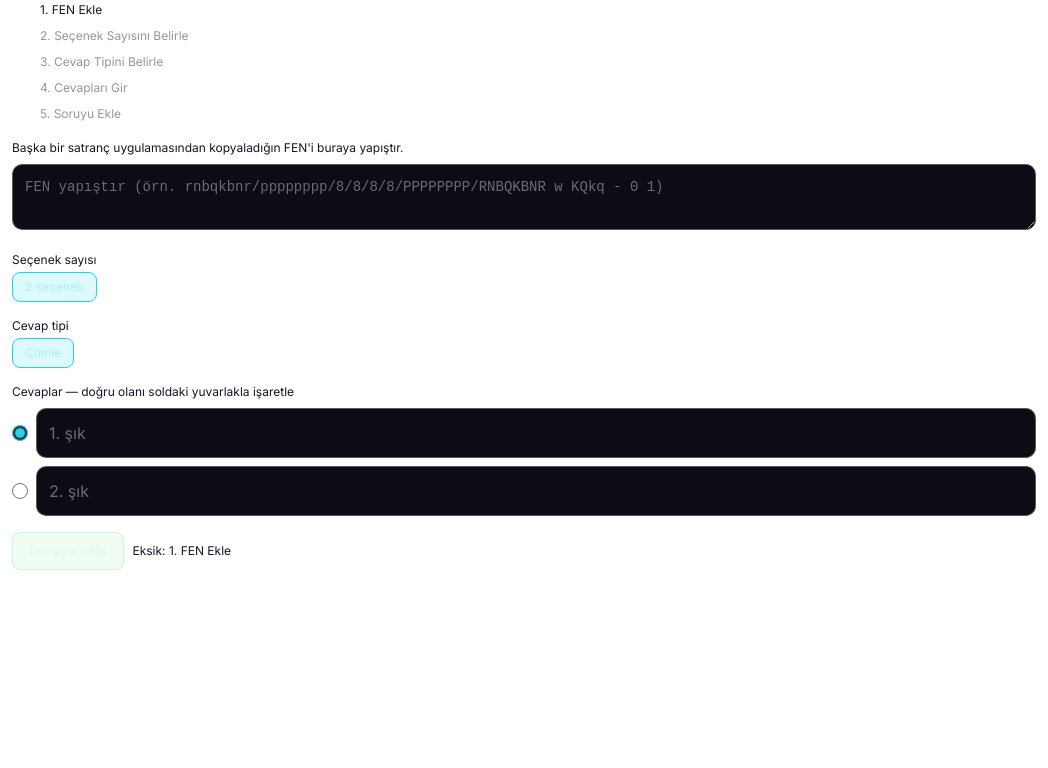
Test: KonumPratigiFields › gönderim sonrası form sıfırlanır (yeni soru için hazır)
Replace the text in the text box with placeholder "FEN yapıştır" with "r1bqkbnr/pppp1ppp/2n5/4p3/2B1P3/5N2/PPPP1PPP/RNBQK2R b KQkq - 0 1". click: (524,197)
box: top-left (12, 164), bottom-right (1036, 230)
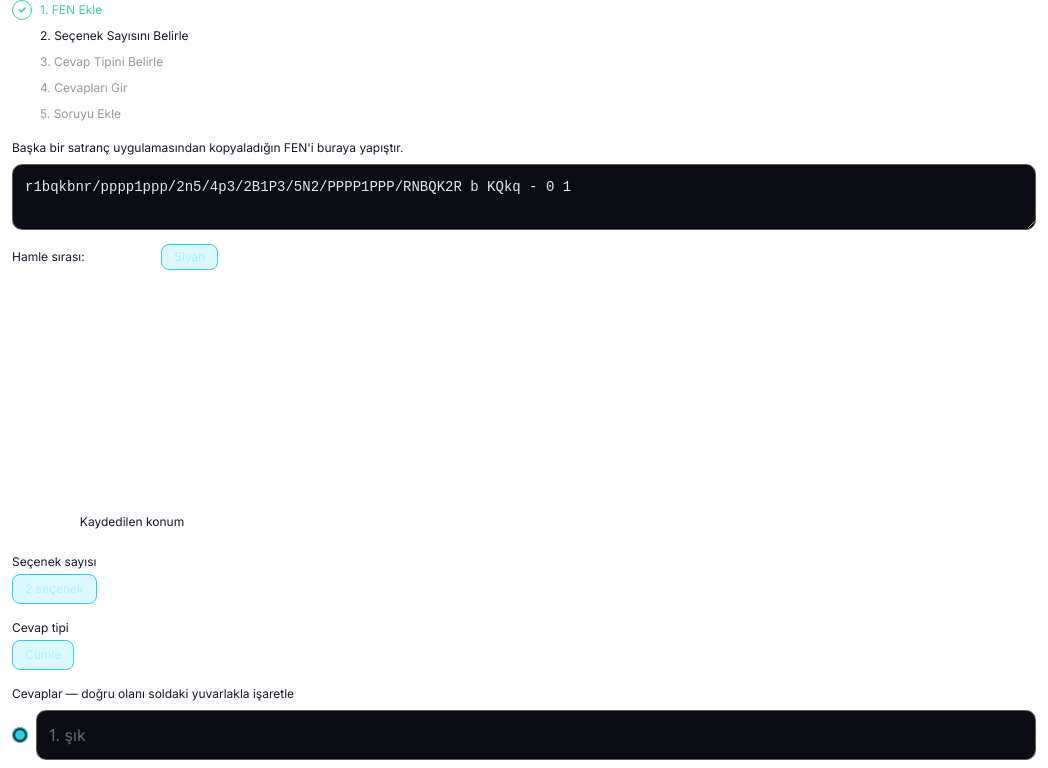
Click the button "2 seçenek". click: (54,589)
box: top-left (12, 574), bottom-right (97, 604)
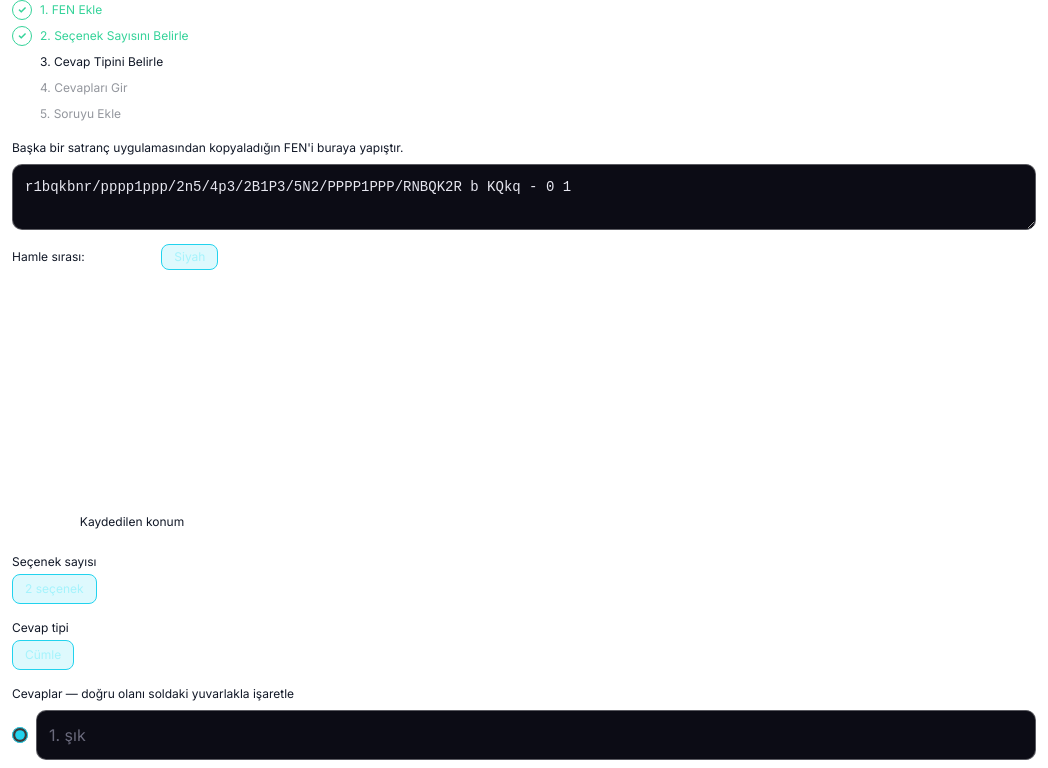
Click the button "Cümle". click: (43,655)
box: top-left (12, 640), bottom-right (74, 670)
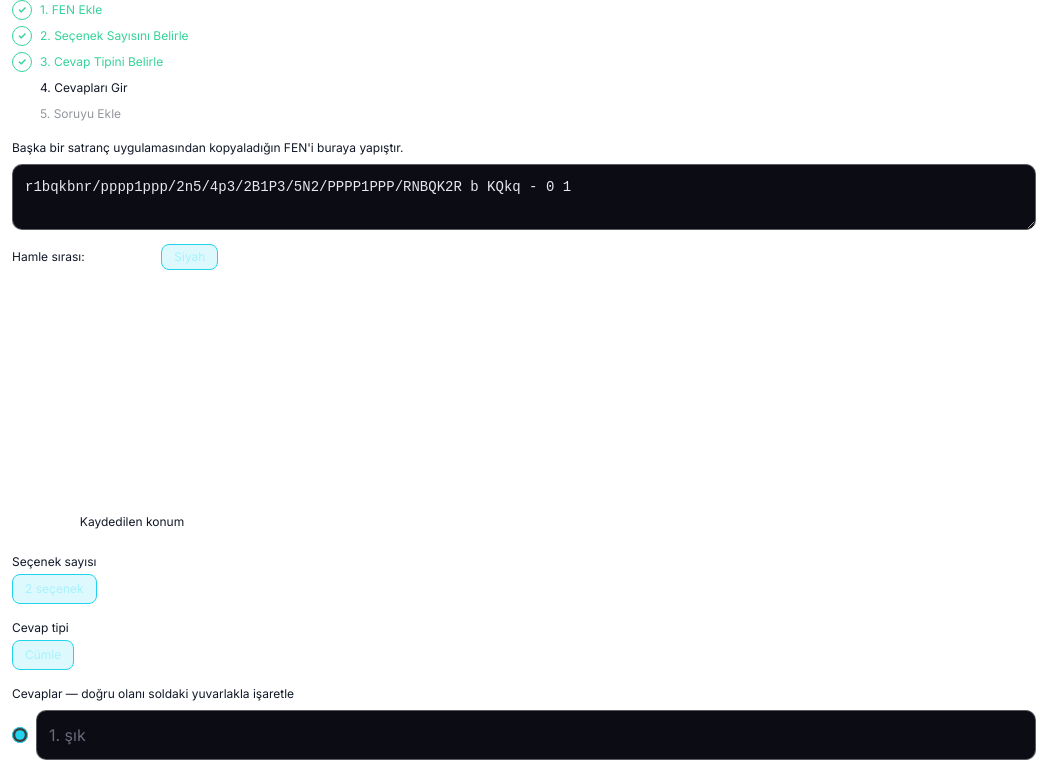
Type "İtalyan Açılışı" into the field with placeholder "1. şık". click: (536,735)
box: top-left (36, 710), bottom-right (1036, 760)
(page scrolled)
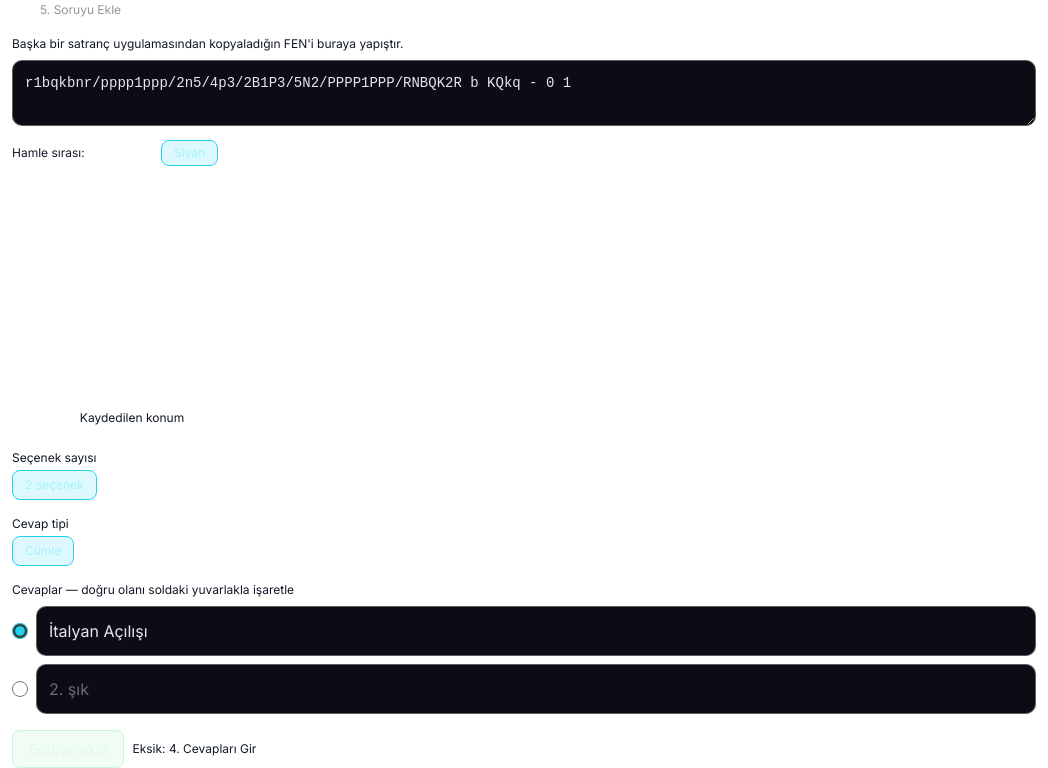
Type "İspanyol Açılışı" into the field with placeholder "2. şık". click: (536,689)
box: top-left (36, 664), bottom-right (1036, 714)
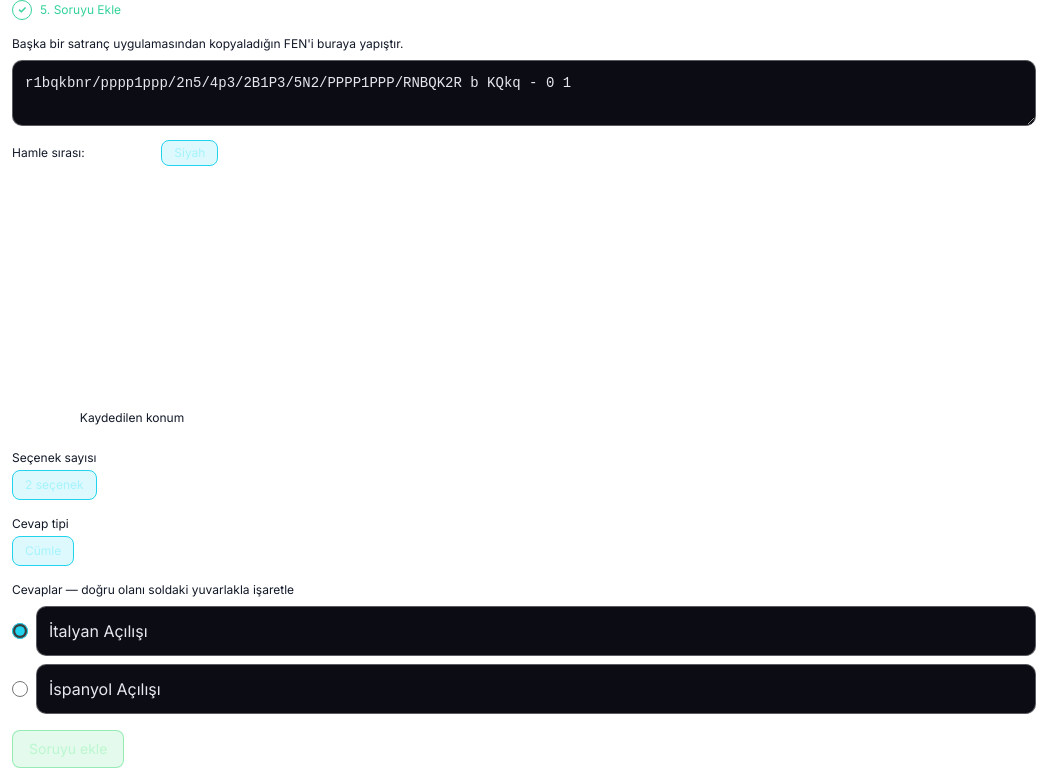
Click the button "Soruyu ekle". click: (68,749)
box: top-left (12, 730), bottom-right (124, 767)
(page scrolled)
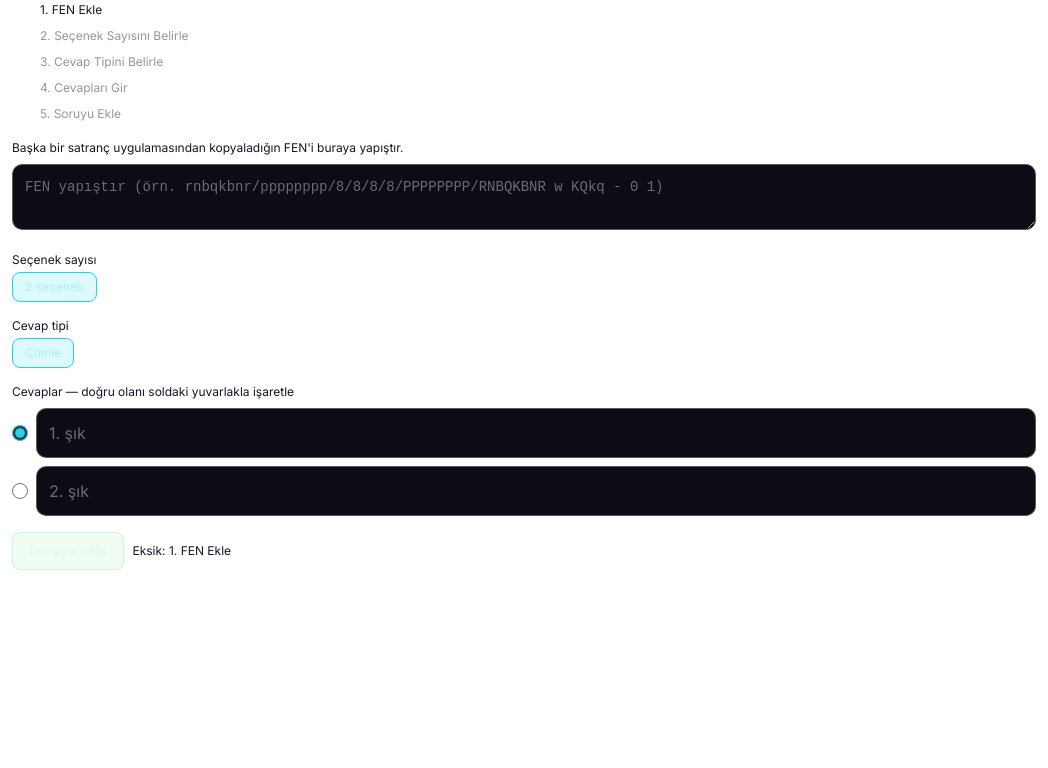
Check: the text box with placeholder "FEN yapıştır" is empty, box top-left (12, 164), bottom-right (1036, 230)
Check: the button "Soruyu ekle" is disabled, box top-left (12, 532), bottom-right (124, 570)
